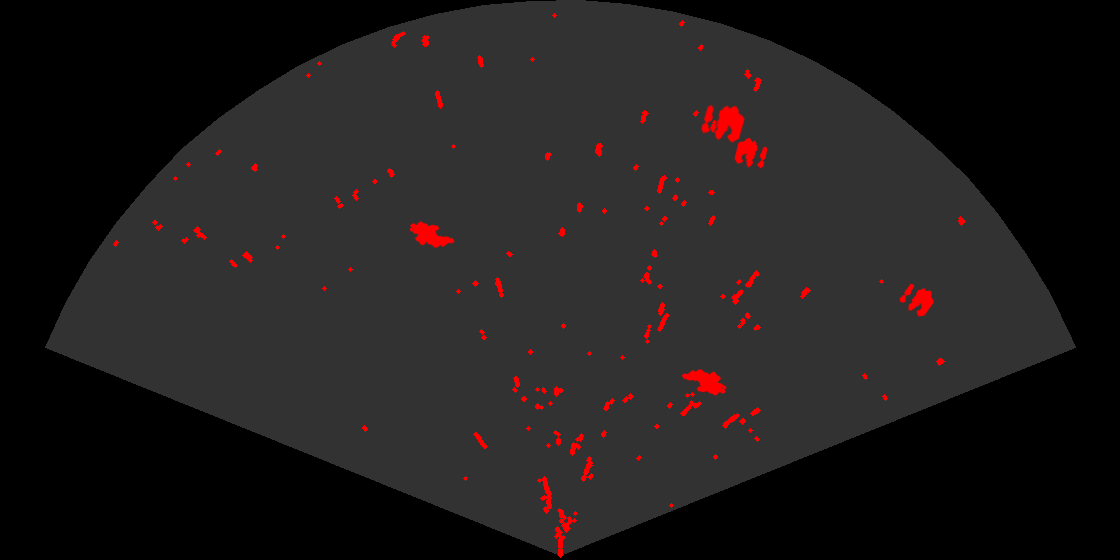AUV: (408, 220, 456, 249), (680, 368, 728, 397)
ball: (699, 103, 747, 144), (898, 282, 935, 318), (733, 136, 769, 170)
